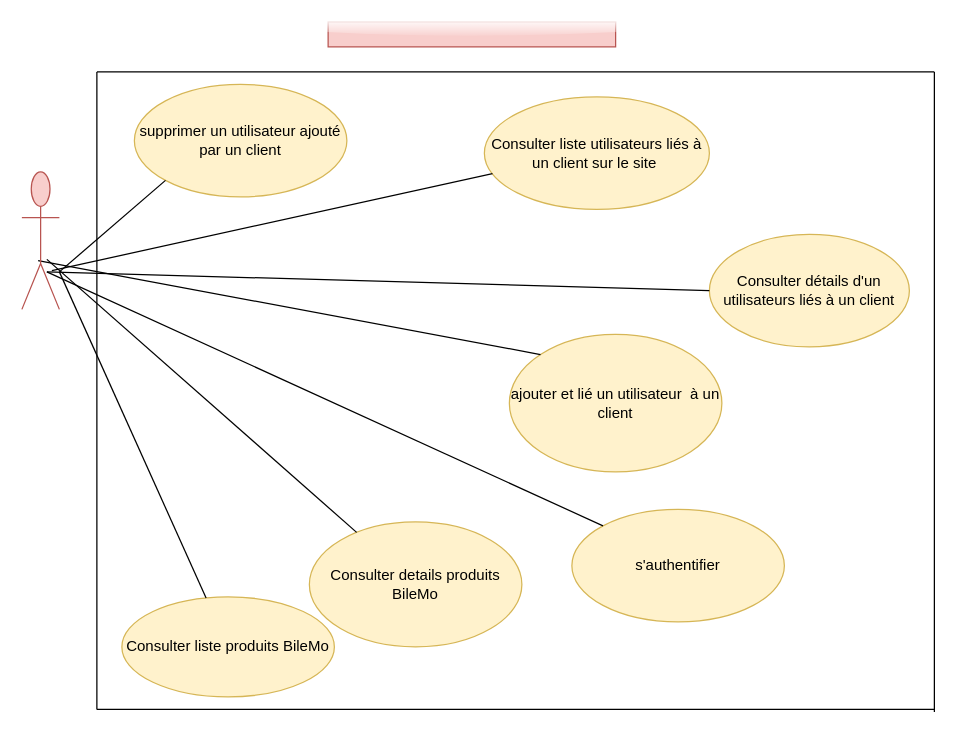
The diagram is 958 pixels wide and 735 high, and some of its shapes have lost their labels. The shapes that lost their labels are listed below. From the top down, each one's centre as x and y in pixels, then its label:
the point at 471,34: DIAGRAMME DE CAS UTILISATION
the point at 40,240: client
